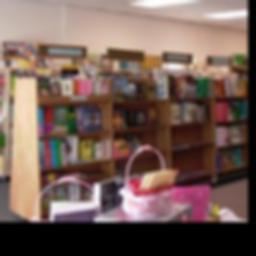Otro Obstaculo: (32, 147, 221, 221)
